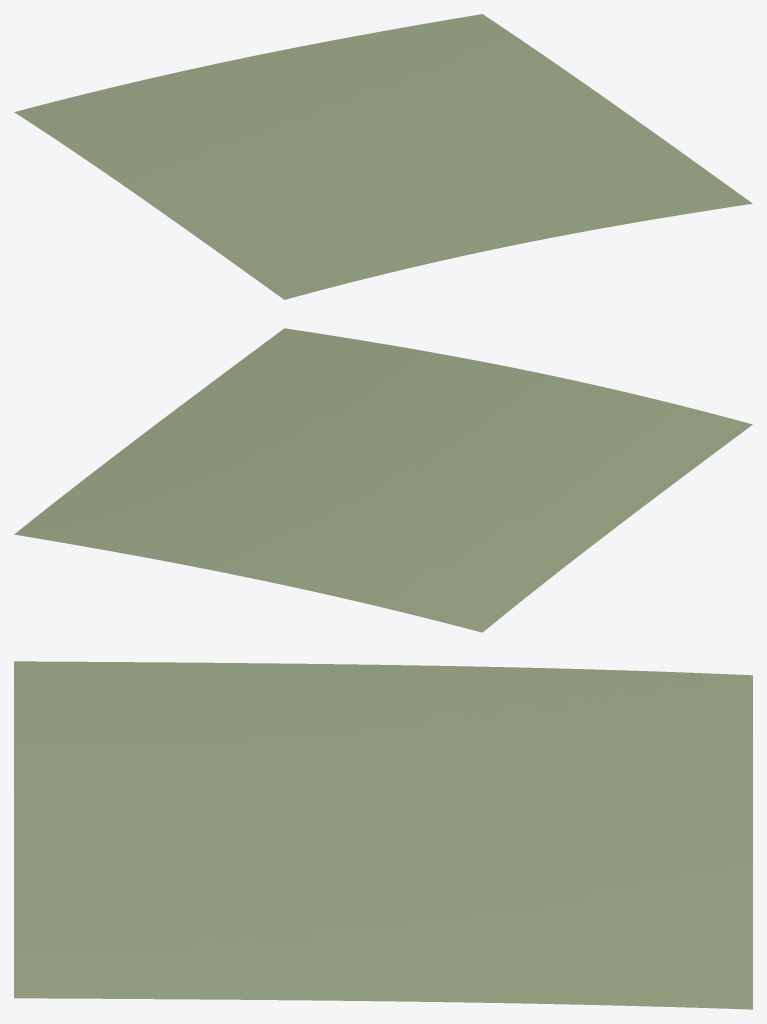
File: valley-2-10.glb
3 views of the same model, one above another, from view 1: azimuth 30°, elevation 25°; view 2: azimuth 150°, elevation 25°; view 3: azimuth 270°, elevation 25° (orthographic). The views are drawn at different scales.
Visible parts, largest first — view 1: valley-2-10; view 2: valley-2-10; view 3: valley-2-10.
Boxes of the visible parts, x1,y1,x2,y2 form: valley-2-10: [14, 14, 752, 299]; valley-2-10: [14, 328, 752, 632]; valley-2-10: [14, 661, 752, 1009].
Bounding box in the file's own units: 256 × 14.51 × 256.
